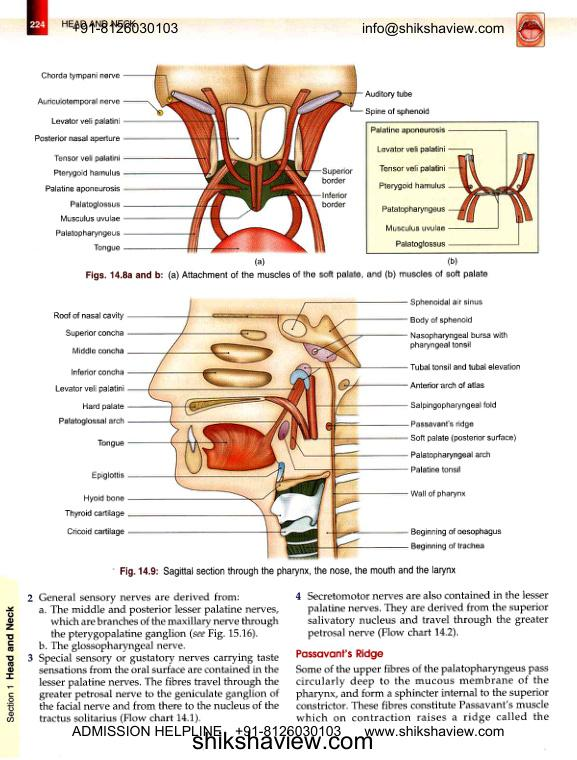caption: (83, 269, 489, 280), (118, 566, 457, 578), (446, 256, 459, 267), (253, 257, 266, 267)
image: (45, 293, 531, 564), (29, 56, 539, 255), (365, 120, 540, 255)
list: (24, 591, 281, 724), (294, 590, 550, 639)
sub-section-heading: (295, 648, 384, 661)
text: (295, 663, 551, 725)
